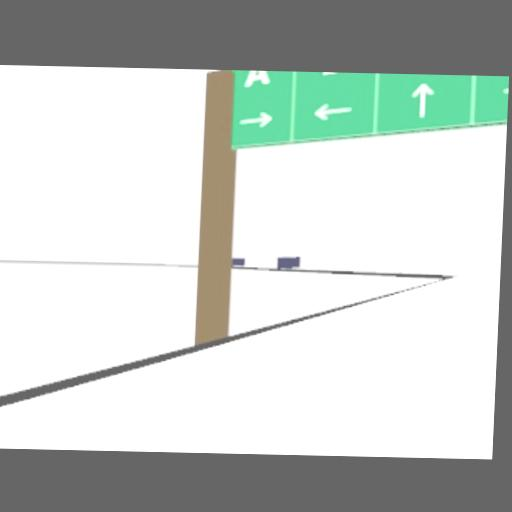A: (243, 69, 269, 85)
B: (321, 72, 347, 75)
Left: (312, 101, 353, 120)
Right: (239, 109, 273, 127), (500, 85, 509, 93)
Straight: (408, 82, 434, 117)
